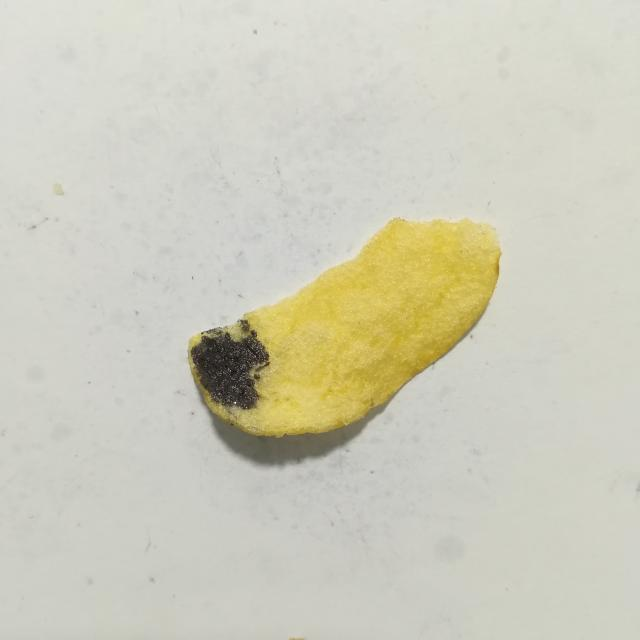chip: (188, 218, 501, 437)
damaged: (189, 319, 269, 410)
